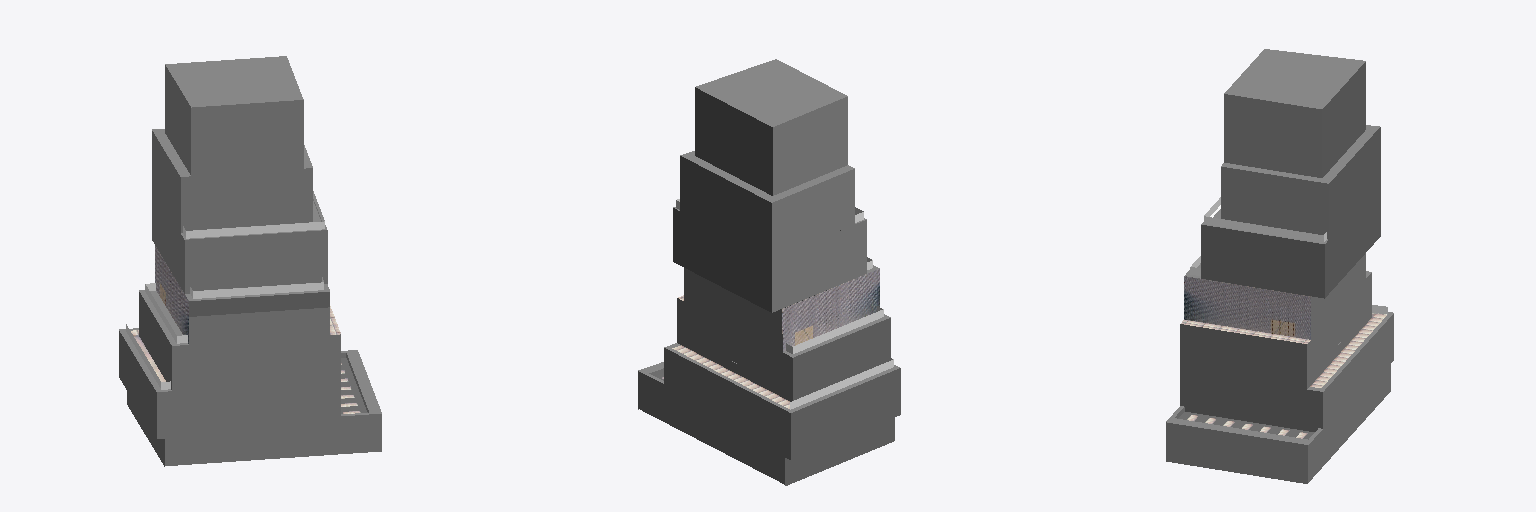
3 views of the same model, side by side, from view 1: azimuth 30°, elevation 25°; view 2: azimuth 150°, elevation 25°; view 3: azimuth 270°, elevation 25° (orthographic).
Bounding box in the file's own units: 37734 × 53388 × 32233.
14 materials, 2 textured.